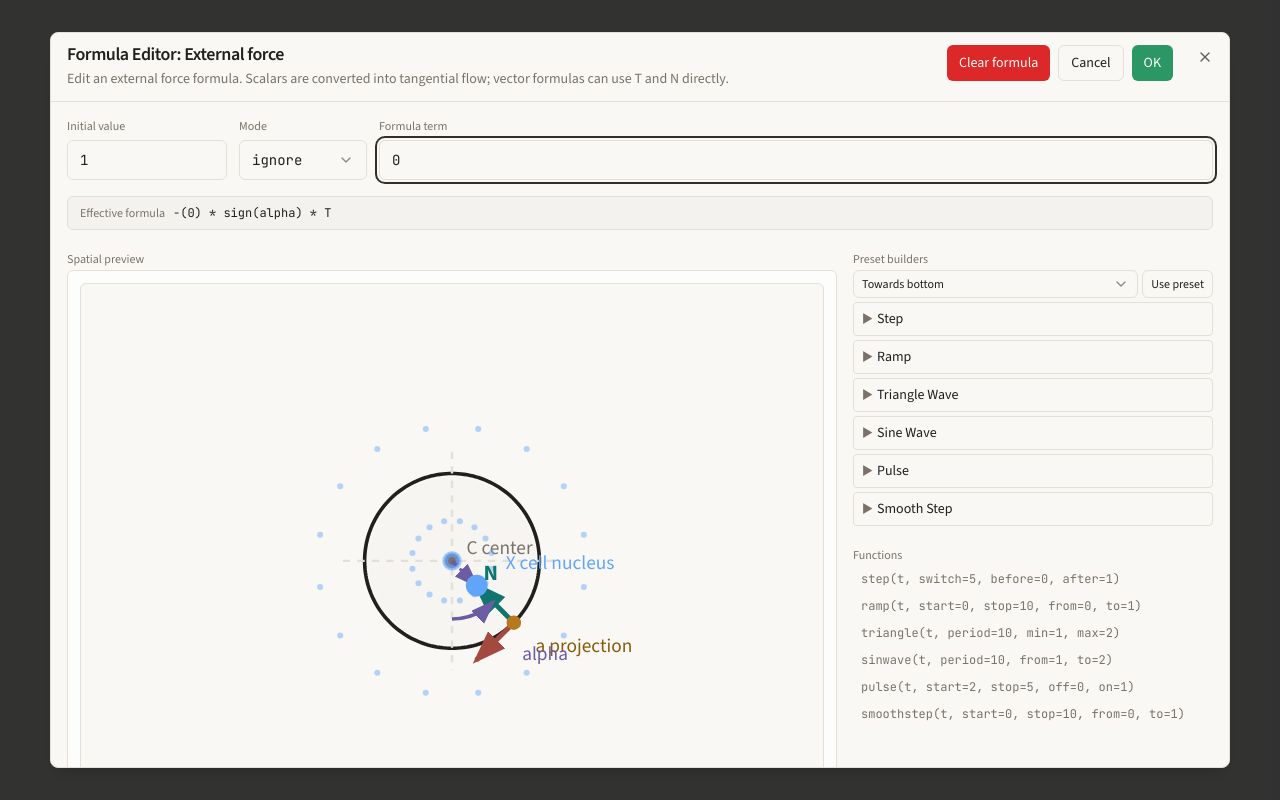
FormulaEditorDialog › uses external force preset strengths as multiplied initial values
Click the button "Use preset". click: click(1178, 284)
box: [1142,270,1213,298]
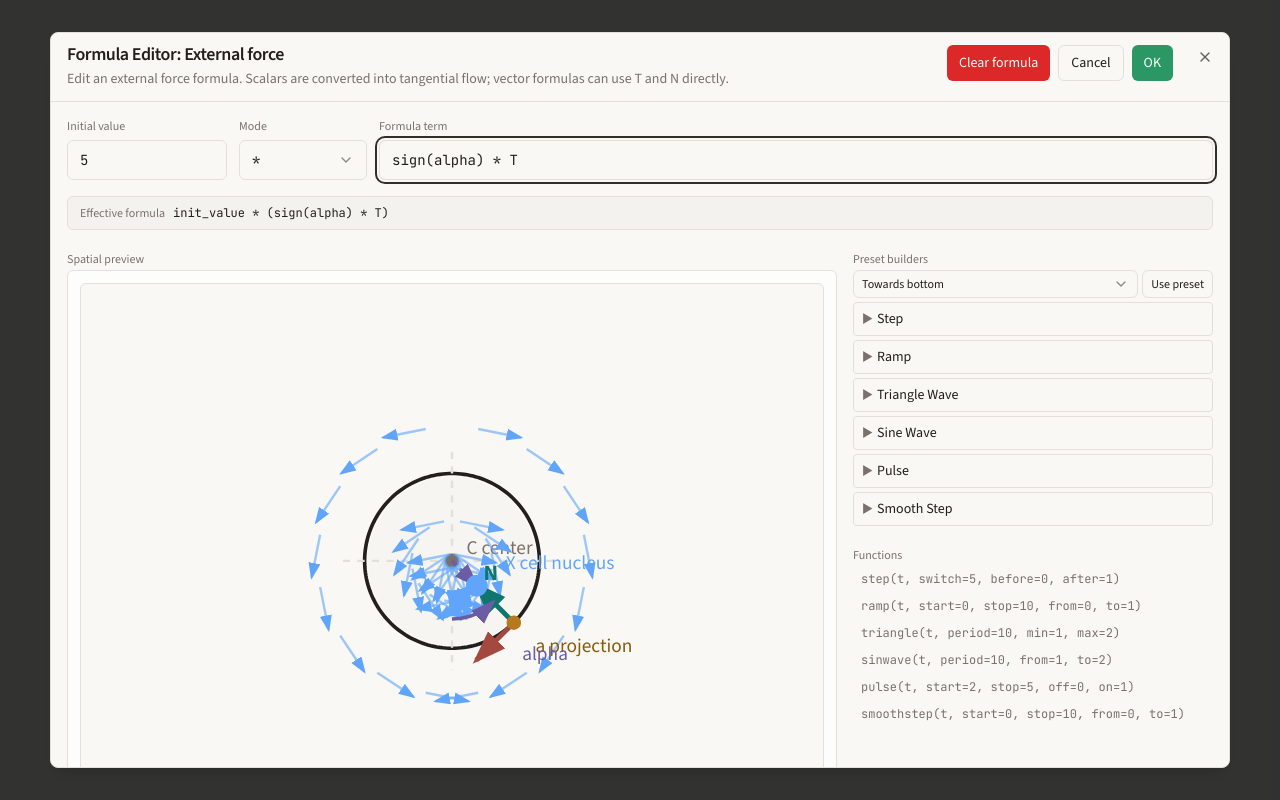
Now the number field labelled "Initial value" holds "5", box [67,140,227,180]
Now the field labelled "Formula term" holds "sign(alpha) * T", box [379,140,1213,180]
Now the text "init_value * (sign(alpha) * T)" is shown, box [173,205,389,221]
